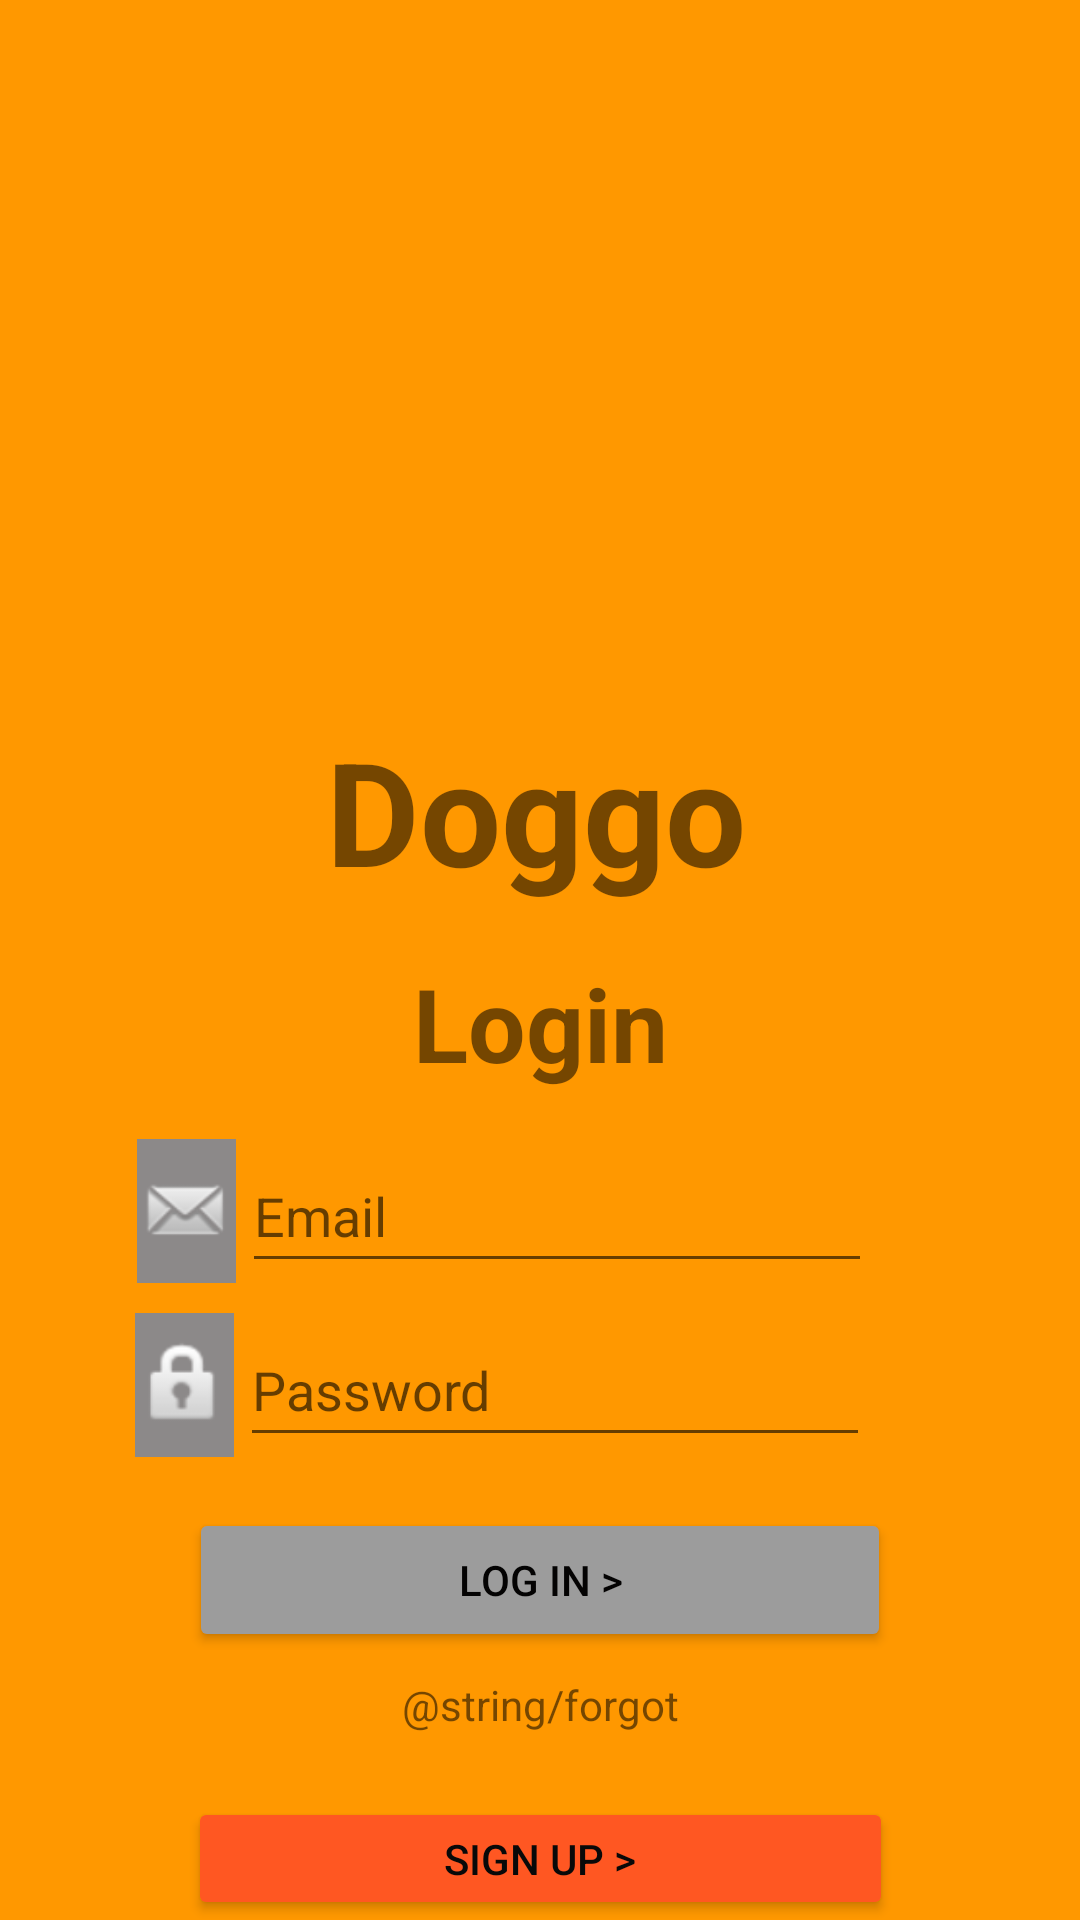

Icon click points for this 1080 x 1920 phone screenshot, format (x,y):
lock idle: (184,1385)
